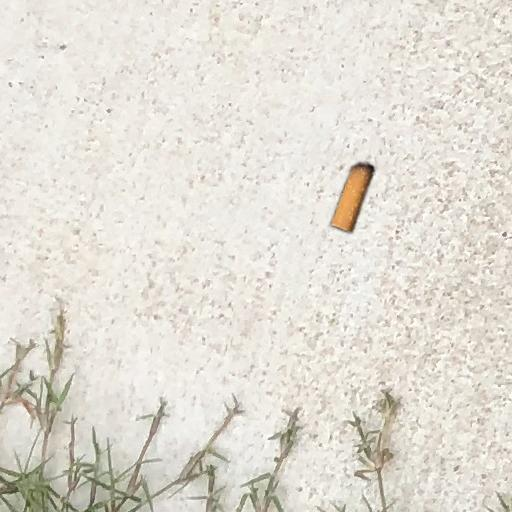smoke: (332, 164, 374, 232)
